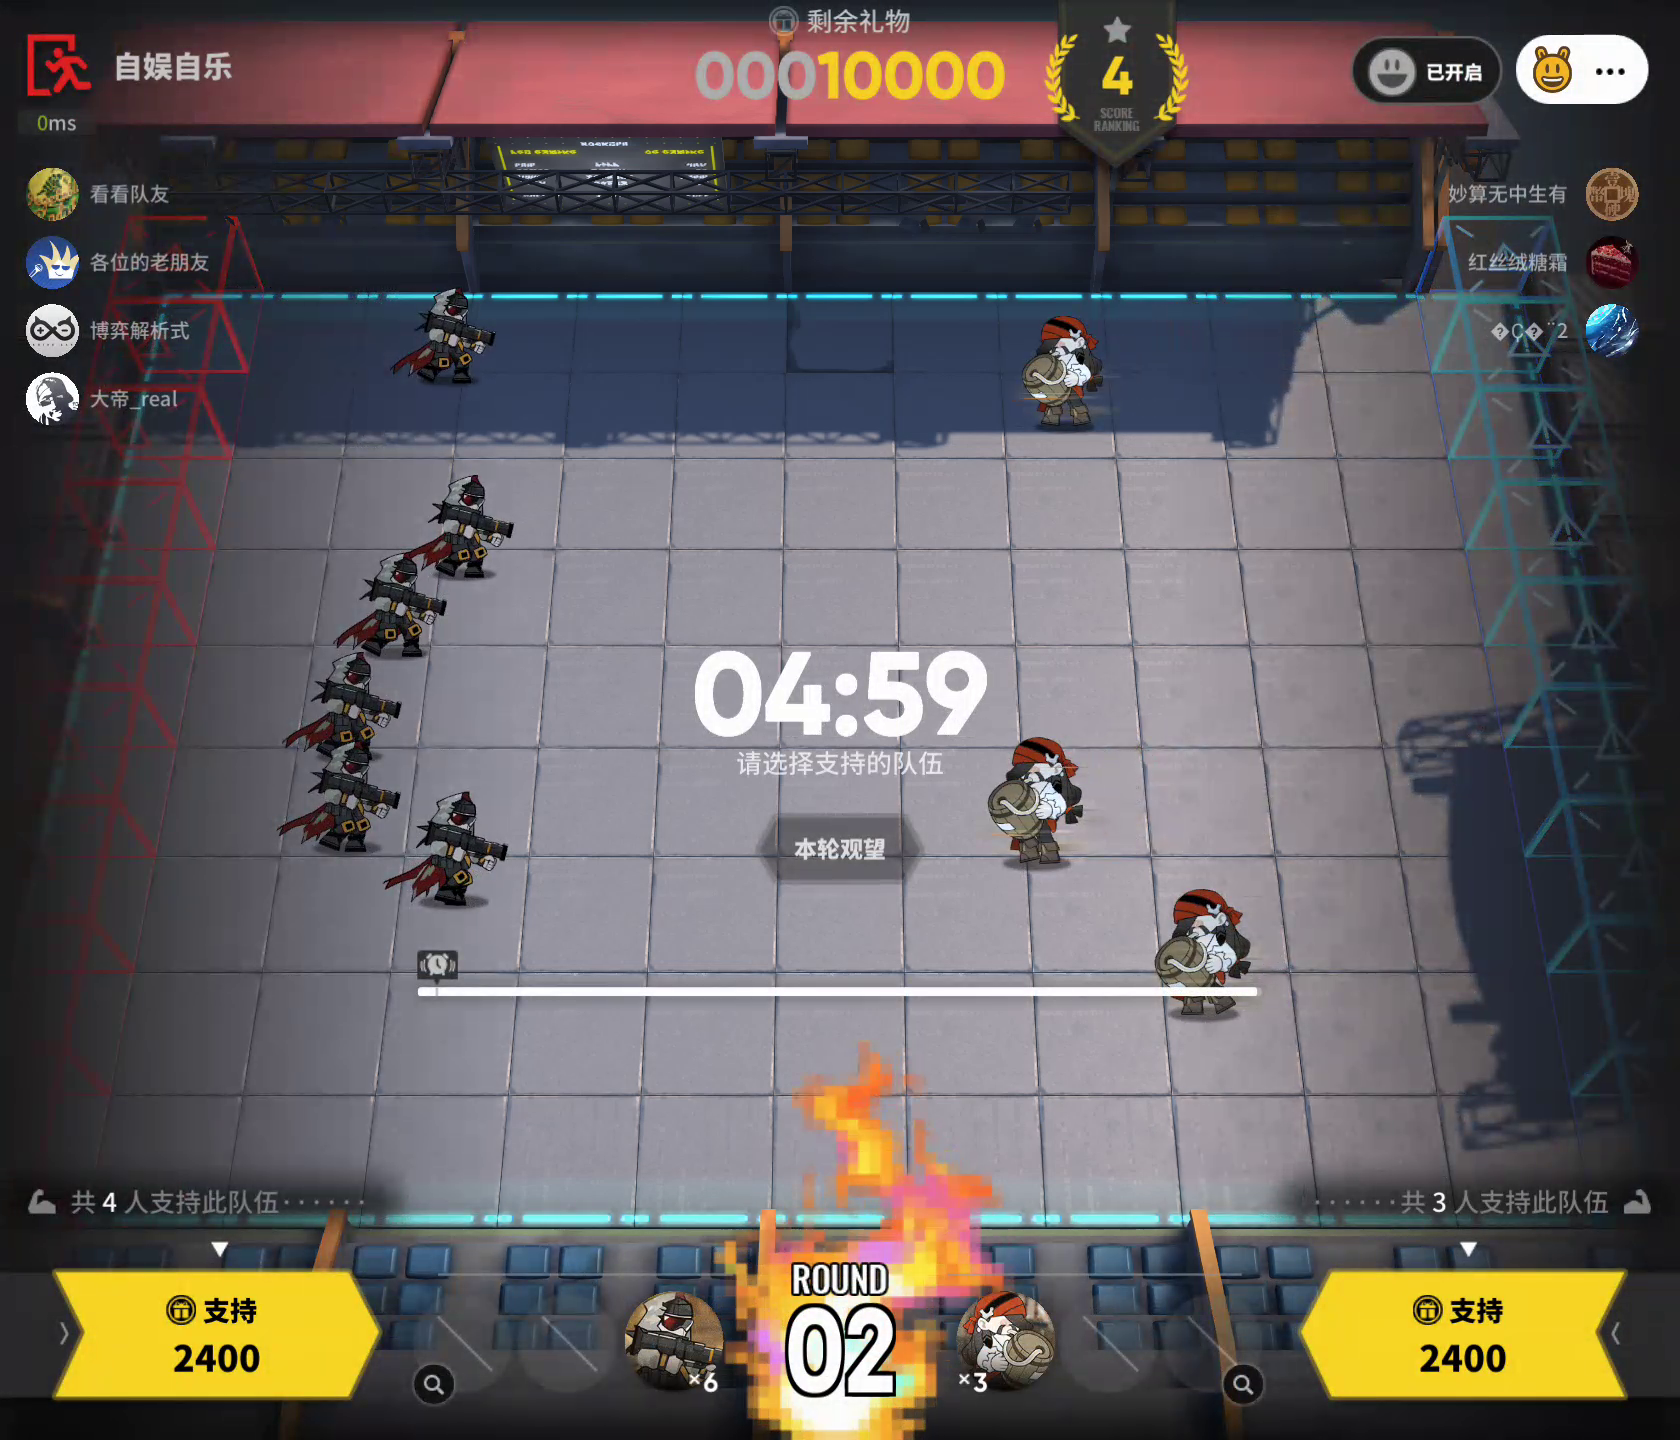假酒海盗: (1149, 881, 1257, 1019), (989, 731, 1090, 867), (1019, 306, 1110, 440), (956, 1287, 1057, 1394)
榴弹佣兵: (381, 779, 517, 911), (274, 736, 406, 869), (394, 471, 524, 590), (279, 646, 407, 759), (327, 547, 449, 659), (391, 281, 504, 394), (619, 1287, 730, 1391)
